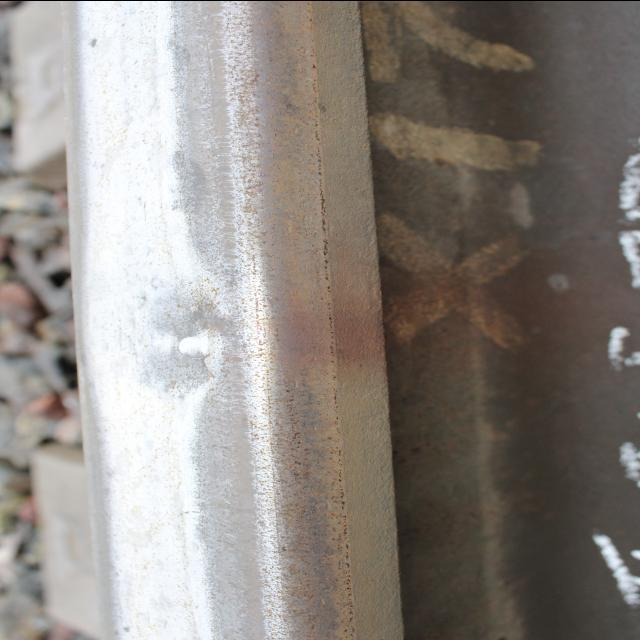broken_rail_medium: (84, 34, 107, 48)
head_checks_high: (69, 221, 265, 459)
